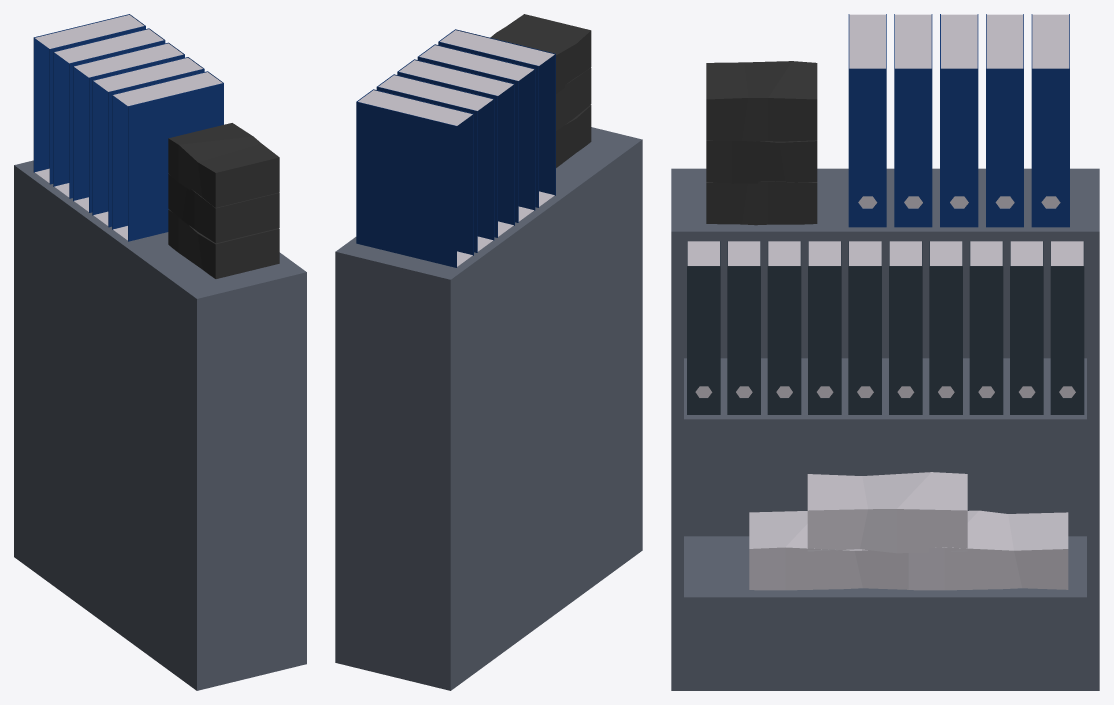
Rendered from cabinet6.fbx.
3 views of the same model, side by side, from view 1: azimuth 30°, elevation 25°; view 2: azimuth 150°, elevation 25°; view 3: azimuth 270°, elevation 25° (orthographic). The views are drawn at different scales.
Parts seen in each view (by area): view 1: Cabinet1.014, Book0.007, Cube.175, Cube.174, Cube.173; view 2: Cabinet1.014, Book0.007, Cube.175, Cube.174, Cube.173; view 3: Cabinet1.014, Book0.008, Book0.007, Cube.172, Cube.171, Cube.175, Cube.170, Cube.173, Cube.174.
Part boxes in pixels (<box>): Cabinet1.014: <box>14,160,306,690</box>; Book0.007: <box>33,14,223,241</box>; Cube.175: <box>168,123,279,207</box>; Cube.174: <box>168,173,279,243</box>; Cube.173: <box>168,209,279,278</box>; Cabinet1.014: <box>335,127,642,690</box>; Book0.007: <box>356,29,555,267</box>; Cube.175: <box>490,14,591,94</box>; Cube.174: <box>556,67,591,130</box>; Cube.173: <box>556,105,591,167</box>; Cabinet1.014: <box>671,168,1099,690</box>; Book0.008: <box>687,241,1084,414</box>; Book0.007: <box>848,14,1069,227</box>; Cube.172: <box>807,472,967,553</box>; Cube.171: <box>908,510,1068,590</box>; Cube.175: <box>706,61,817,141</box>; Cube.170: <box>749,511,908,590</box>; Cube.173: <box>706,181,817,225</box>; Cube.174: <box>706,140,817,183</box>.
Bounding box in the file's own units: 0.1876 × 0.86 × 0.5403.
